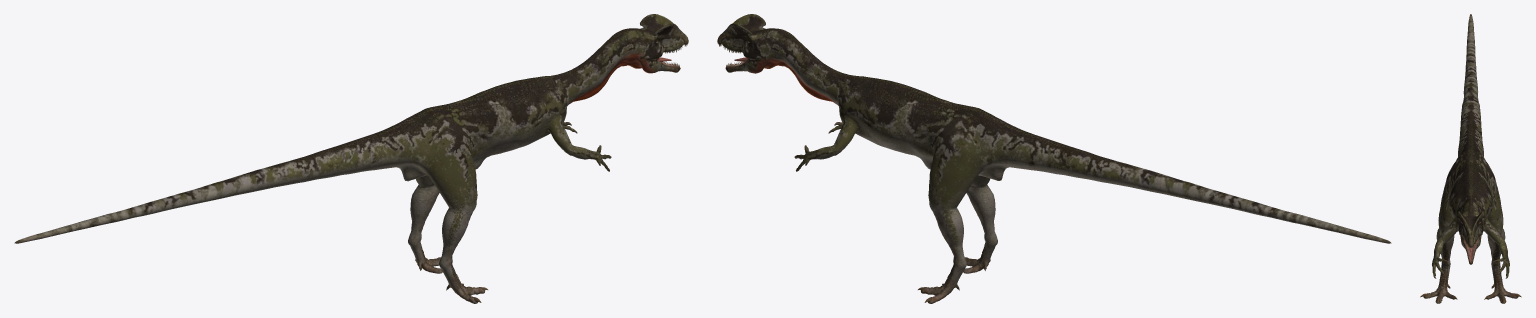
The model's file is nature-dilophosaurus.glb.
The picture shows the model from 3 angles, left to right: view 1: azimuth 30°, elevation 25°; view 2: azimuth 150°, elevation 25°; view 3: azimuth 270°, elevation 25°; orthographic projection. The views are drawn at different scales.
Visible parts, largest first — view 1: Animal; view 2: Animal; view 3: Animal.
Boxes of the visible parts, x1,y1,x2,y2 form: Animal: (14, 14, 688, 303); Animal: (717, 14, 1391, 303); Animal: (1420, 14, 1521, 303).
Size of the model in its own units: 3.2 by 0.9595 by 0.5233.
Materials: 3 (2 with a texture image).
